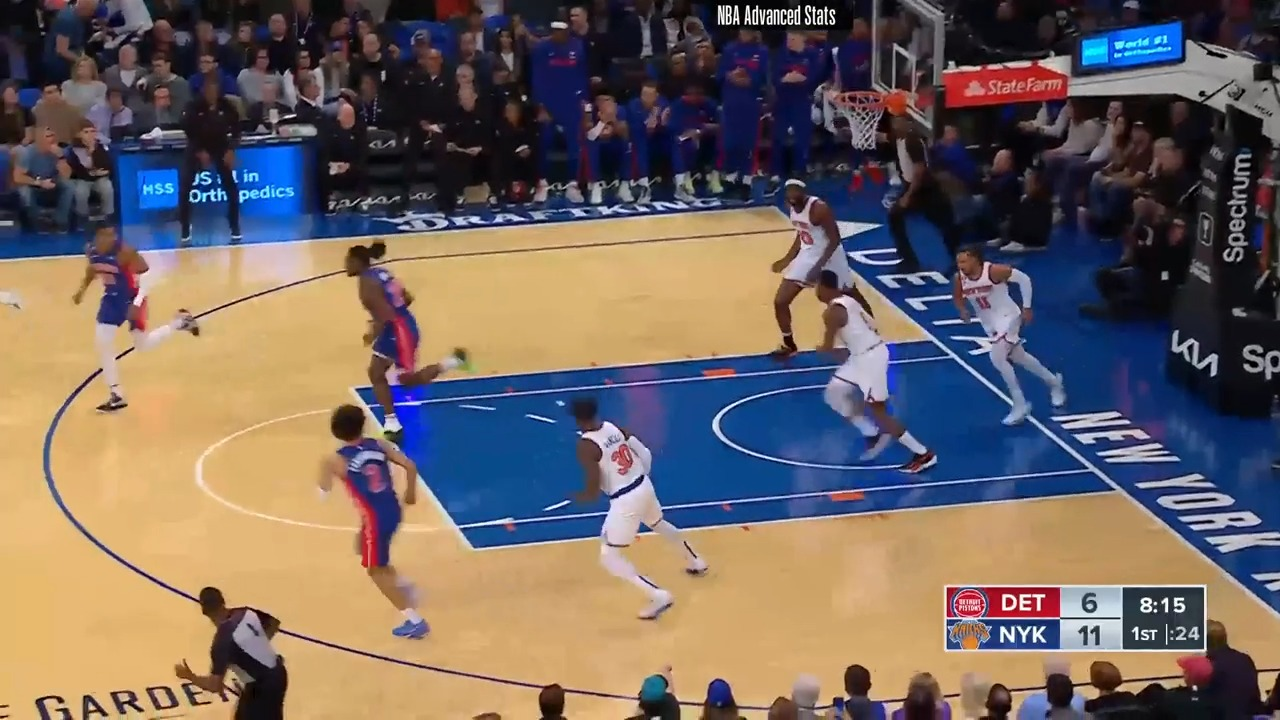net: (829, 80, 912, 157)
player: (570, 397, 718, 628), (312, 402, 443, 647), (333, 235, 470, 450), (801, 272, 935, 481), (69, 210, 199, 421), (947, 241, 1062, 430), (766, 176, 873, 354)
referee: (190, 586, 317, 720), (885, 108, 970, 263)
